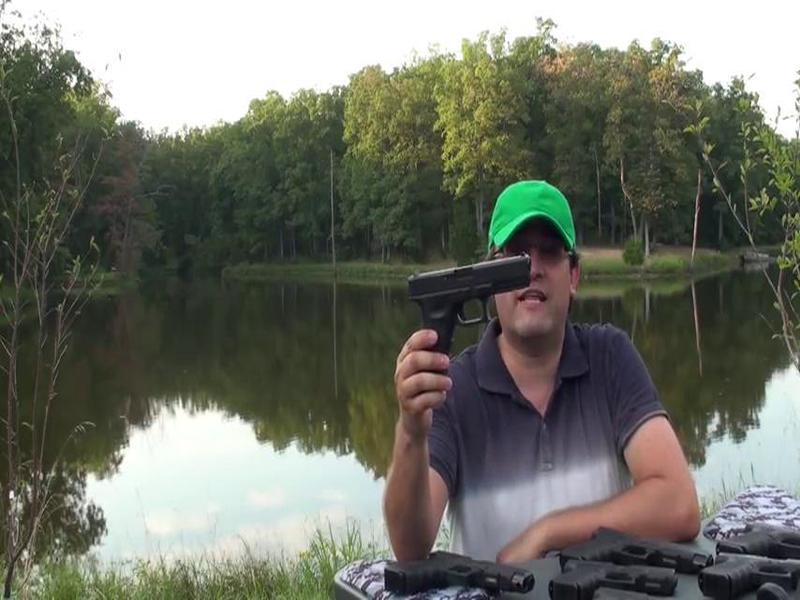Pistola: (378, 250, 528, 381)
